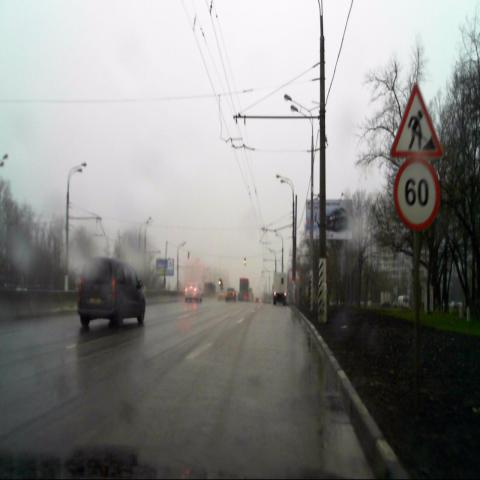1_25: (390, 83, 442, 159)
